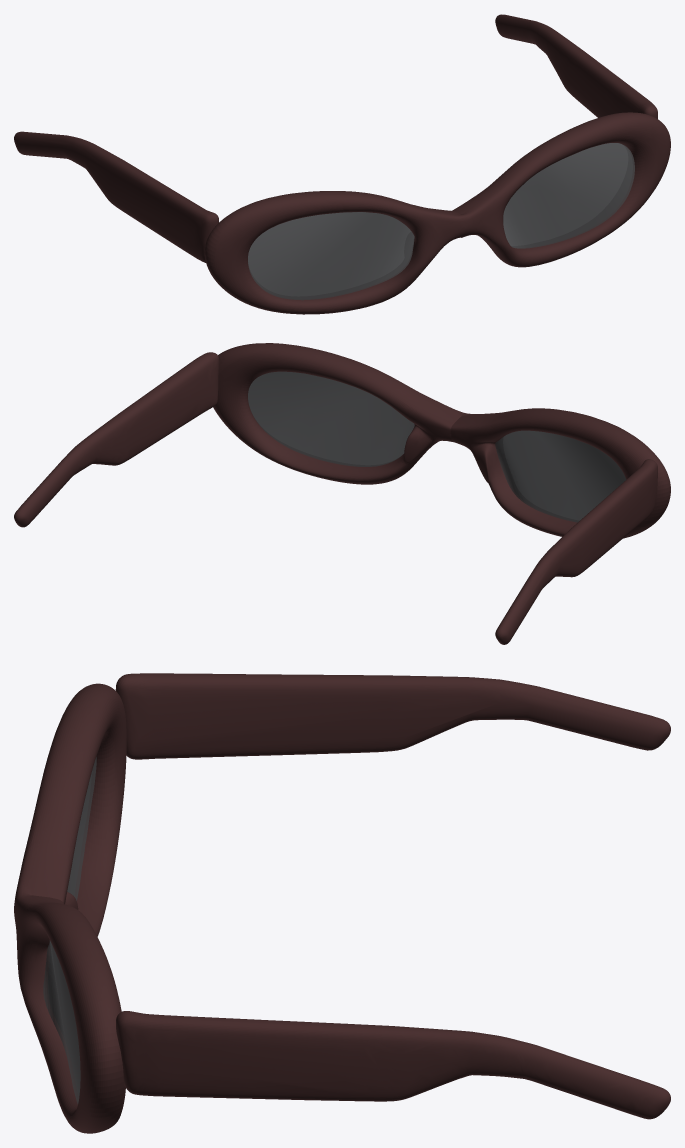
Rendered from glasses - hush brown.glb.
3 views of the same model, one above another, from view 1: azimuth 30°, elevation 25°; view 2: azimuth 150°, elevation 25°; view 3: azimuth 270°, elevation 25° (orthographic). The views are drawn at different scales.
Parts seen in each view (by area): view 1: Plane024_1, Plane024; view 2: Plane024_1, Plane024; view 3: Plane024_1, Plane024.
Part boxes in pixels (x1=…): Plane024_1: x1=14, y1=14, x2=670, y2=314; Plane024: x1=248, y1=143, x2=634, y2=300; Plane024_1: x1=14, y1=343, x2=670, y2=644; Plane024: x1=248, y1=371, x2=626, y2=522; Plane024_1: x1=14, y1=673, x2=670, y2=1133; Plane024: x1=43, y1=757, x2=96, y2=1103.
Size of the model in its own units: 0.4184 by 0.1004 by 0.3074.
Materials: 2 (2 with a texture image).
